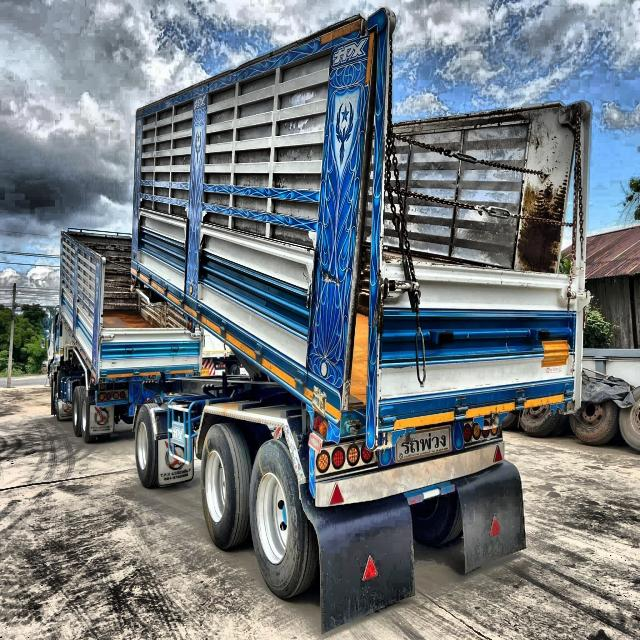trailer: (47, 9, 594, 599)
